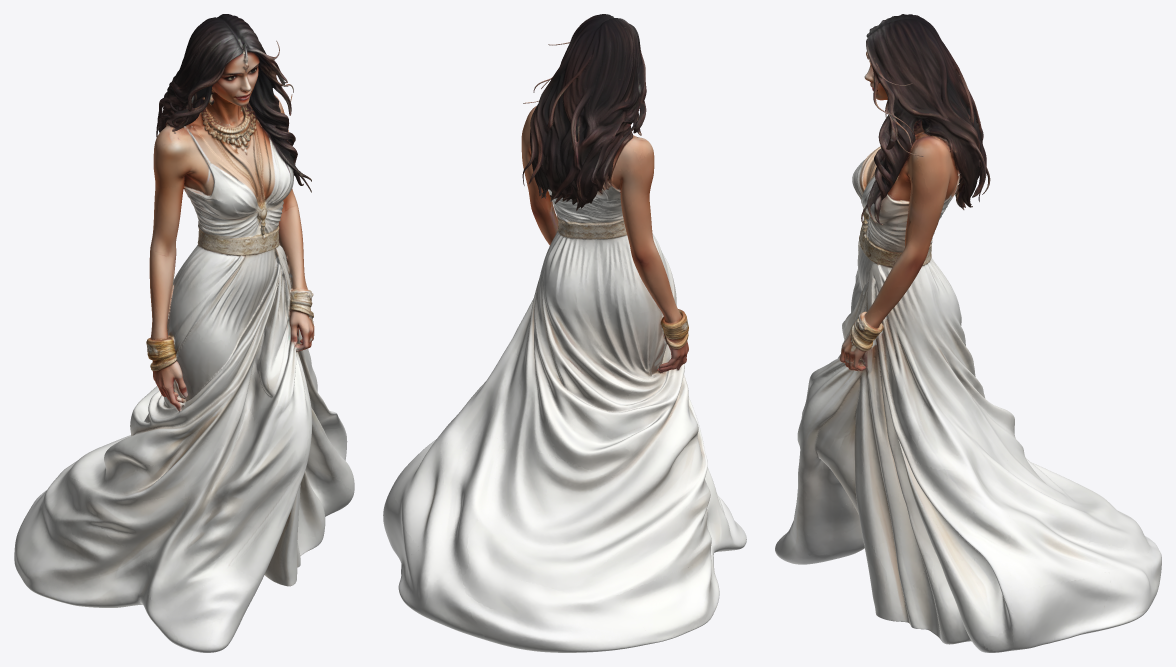
The model's file is Meshy_AI_Gilded_Ivory_Elegance_0705012536_texture.glb.
3 views of the same model, side by side, from view 1: azimuth 30°, elevation 25°; view 2: azimuth 150°, elevation 25°; view 3: azimuth 270°, elevation 25° (orthographic). The views are drawn at different scales.
Bounding box in the file's own units: 1.14 × 1.9 × 1.16.
1 material, 1 textured.
